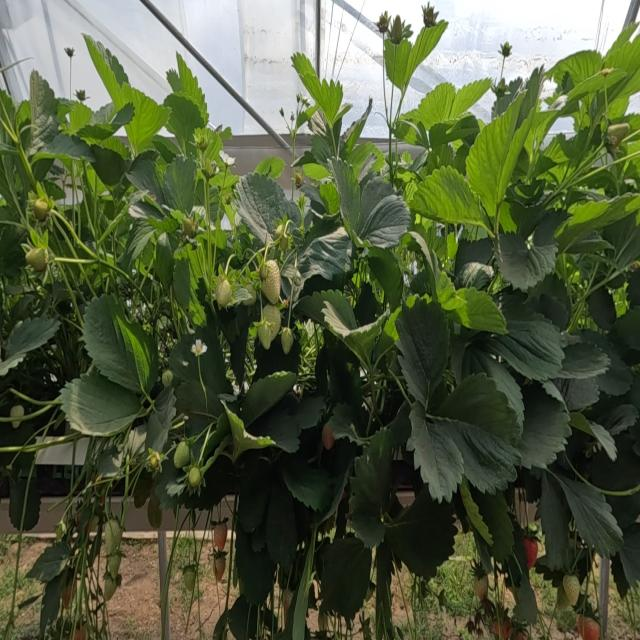Flowers: (497, 42, 511, 59), (192, 341, 207, 355), (296, 93, 309, 105), (64, 47, 74, 58)
Leaves: (439, 374, 520, 493), (84, 294, 159, 394), (385, 487, 456, 578), (498, 65, 542, 208), (466, 103, 519, 218), (491, 299, 563, 380), (395, 298, 449, 404), (406, 402, 463, 502), (349, 429, 395, 547), (59, 369, 139, 435), (557, 476, 621, 557), (416, 167, 490, 231), (556, 195, 635, 251), (520, 382, 571, 468), (320, 535, 371, 619), (234, 174, 299, 239), (169, 327, 229, 396), (461, 484, 513, 562), (321, 299, 389, 356), (291, 53, 344, 125), (235, 520, 276, 604), (495, 233, 555, 290), (121, 85, 169, 155), (536, 472, 569, 570), (266, 468, 297, 570), (83, 34, 123, 113), (175, 370, 223, 434), (585, 330, 631, 395), (280, 453, 331, 510), (297, 227, 352, 279), (241, 372, 295, 424), (295, 289, 357, 334), (405, 20, 447, 86), (360, 193, 410, 248), (3, 317, 59, 364), (237, 458, 273, 531), (591, 438, 639, 492), (165, 92, 206, 153), (603, 35, 639, 103), (456, 288, 506, 334), (179, 242, 206, 327), (30, 71, 59, 150), (367, 248, 403, 309), (330, 158, 359, 231), (524, 109, 559, 164), (201, 457, 238, 509), (163, 154, 195, 214), (560, 340, 609, 379), (176, 53, 206, 116), (548, 50, 602, 84), (147, 386, 175, 451), (310, 110, 341, 168), (40, 568, 67, 633), (418, 83, 455, 128), (126, 160, 163, 205), (41, 133, 96, 163), (450, 79, 491, 119), (28, 542, 70, 581), (429, 114, 480, 146), (532, 133, 568, 177), (9, 476, 38, 530), (328, 403, 366, 443), (90, 145, 126, 185), (532, 273, 570, 310), (512, 571, 537, 623), (1, 227, 26, 279), (436, 272, 466, 314), (126, 218, 156, 260), (587, 288, 616, 330), (537, 293, 568, 331), (348, 142, 384, 174), (614, 307, 639, 350), (567, 378, 598, 410), (455, 263, 493, 289), (173, 258, 190, 309), (253, 157, 285, 179)
Strawberries: (261, 260, 279, 304), (605, 124, 629, 157), (103, 519, 122, 555), (389, 16, 411, 44), (262, 305, 279, 339), (577, 615, 599, 639), (214, 277, 231, 307), (563, 575, 579, 606), (26, 248, 47, 271), (523, 537, 538, 569), (174, 441, 190, 467), (32, 198, 50, 221), (492, 619, 511, 639), (104, 572, 118, 599), (214, 523, 227, 551), (422, 5, 438, 27), (107, 554, 121, 579), (474, 576, 487, 601), (182, 567, 195, 592), (258, 323, 271, 348), (61, 580, 73, 607), (214, 555, 225, 582), (187, 467, 201, 488), (377, 12, 390, 34), (281, 328, 292, 354), (322, 424, 334, 447), (148, 452, 159, 470), (161, 370, 172, 387), (74, 625, 86, 639), (10, 404, 24, 416), (13, 421, 21, 428)
